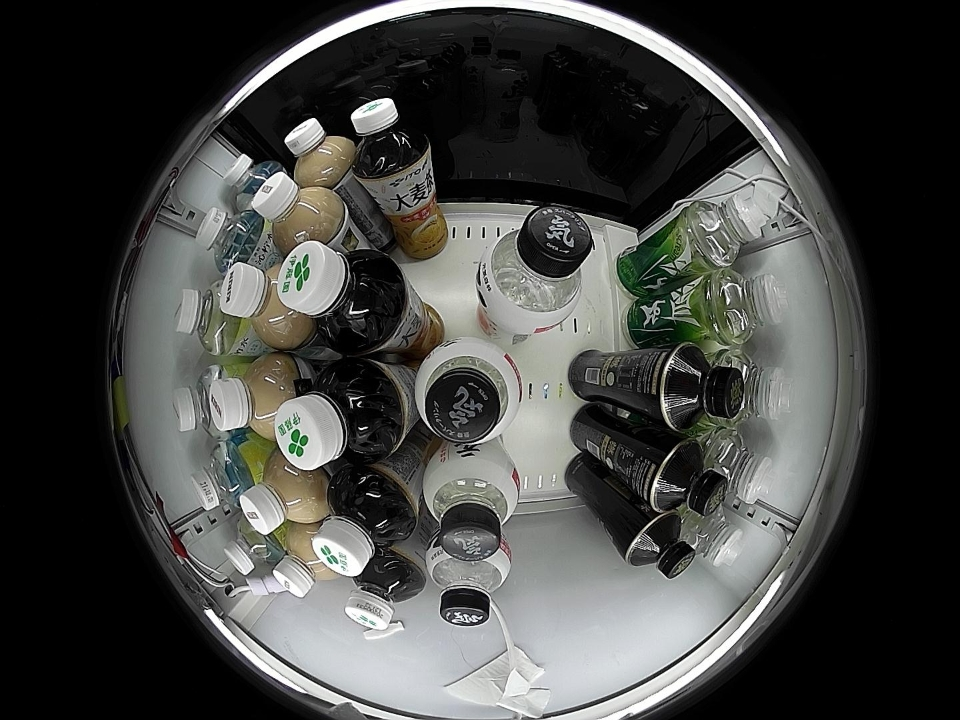damaicha: (275, 360, 403, 470), (278, 242, 402, 352), (313, 471, 414, 576), (345, 553, 425, 634), (350, 96, 429, 178)
jianjiao: (687, 193, 768, 267), (710, 270, 789, 345), (723, 349, 793, 424), (707, 428, 775, 505), (686, 505, 745, 567)
qinningshui: (174, 284, 241, 357), (190, 441, 257, 512), (195, 207, 266, 271), (172, 365, 229, 439), (222, 153, 282, 213), (223, 518, 283, 576)
rancha-1: (658, 343, 745, 432), (647, 438, 729, 517), (624, 511, 697, 580)
wuhounaicha: (220, 262, 309, 349), (208, 354, 300, 438), (252, 172, 345, 250), (240, 454, 324, 535), (283, 116, 354, 186), (272, 528, 338, 598)
yuanqishui: (478, 206, 594, 333), (414, 339, 522, 446), (422, 448, 520, 562), (428, 537, 512, 626)
